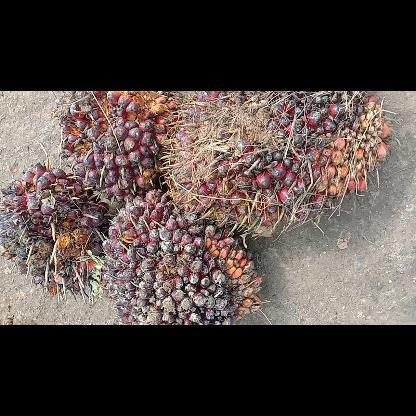Kurang masak: (158, 92, 396, 244), (95, 188, 264, 324)
TBS masak: (0, 160, 114, 298), (55, 92, 182, 204)
